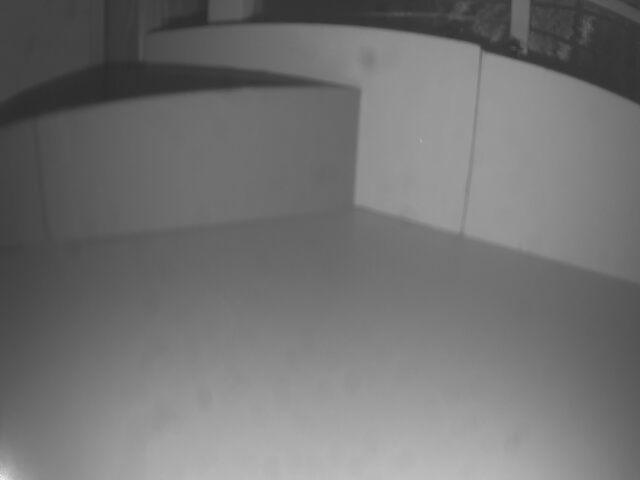Point: (4, 89, 361, 251)
